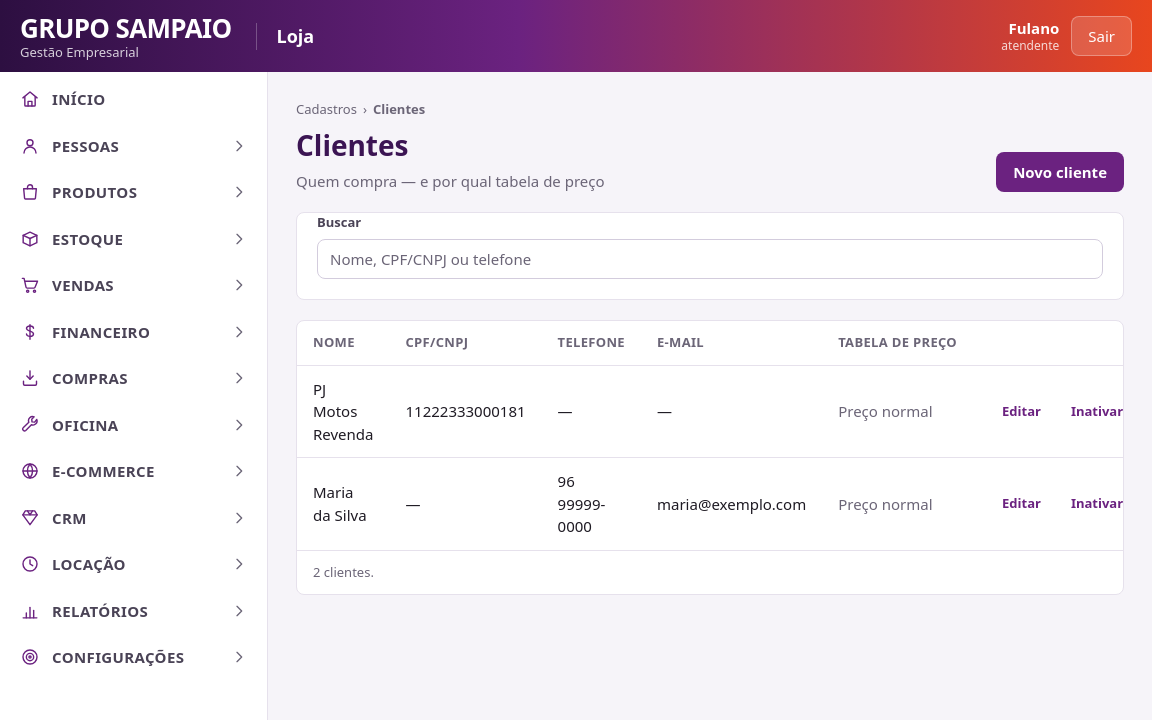
editar a ficha › CPF de outro cliente também é dito em português
Click the button with aria-label "Editar cadastro de Maria da Silva". click: (1021, 504)
box: [989,487,1054,520]
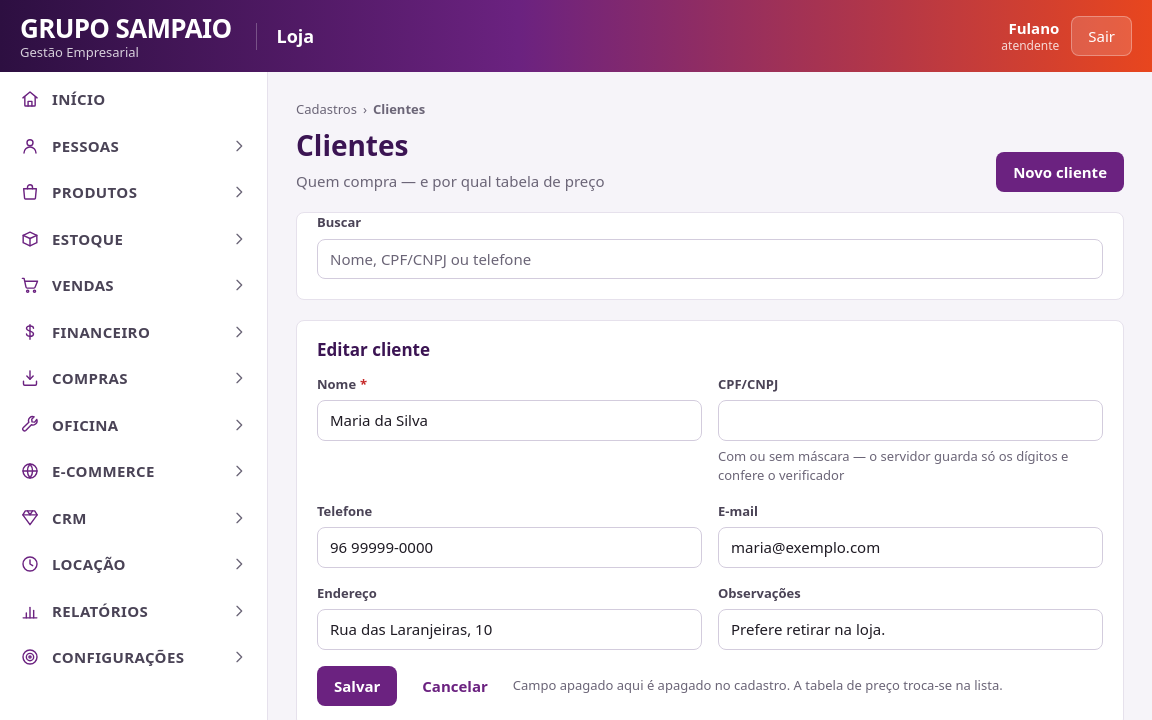
Result: the field labelled "Telefone" is shown at [317,527,702,568]
Click the button "Salvar". click: (357, 686)
box: [317,666,397,706]
(page scrolled)
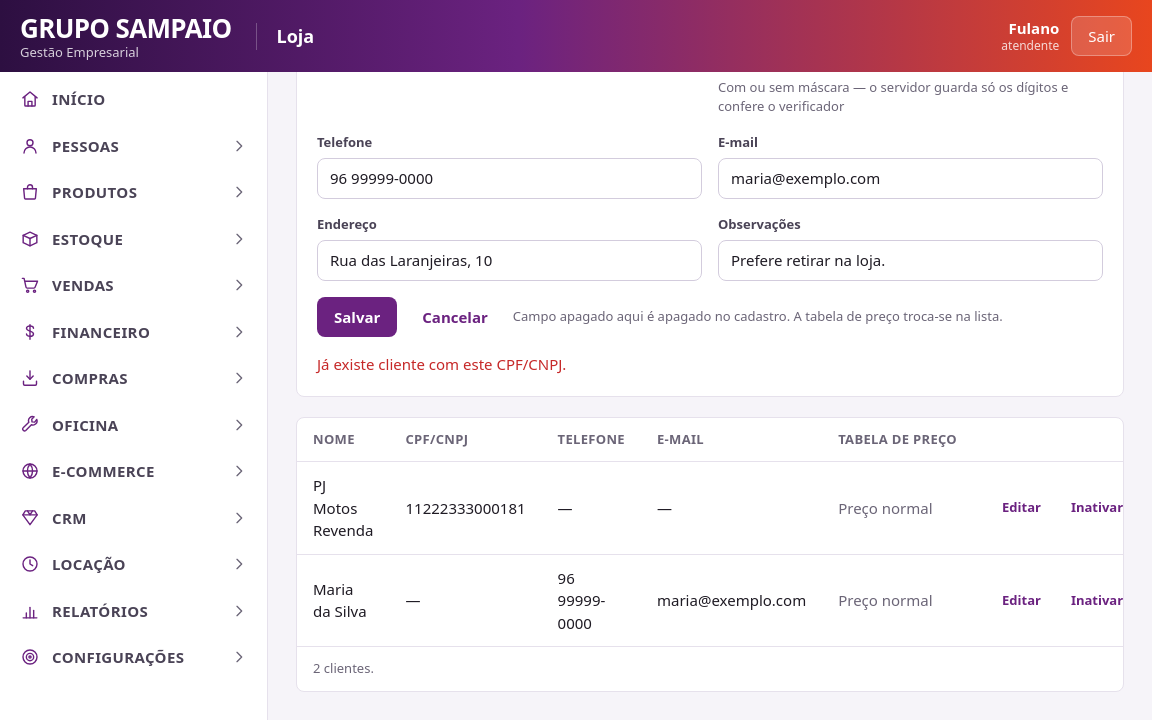
Result: the message reads "Já existe cliente com este CPF/CNPJ." at [317,354,566,374]
